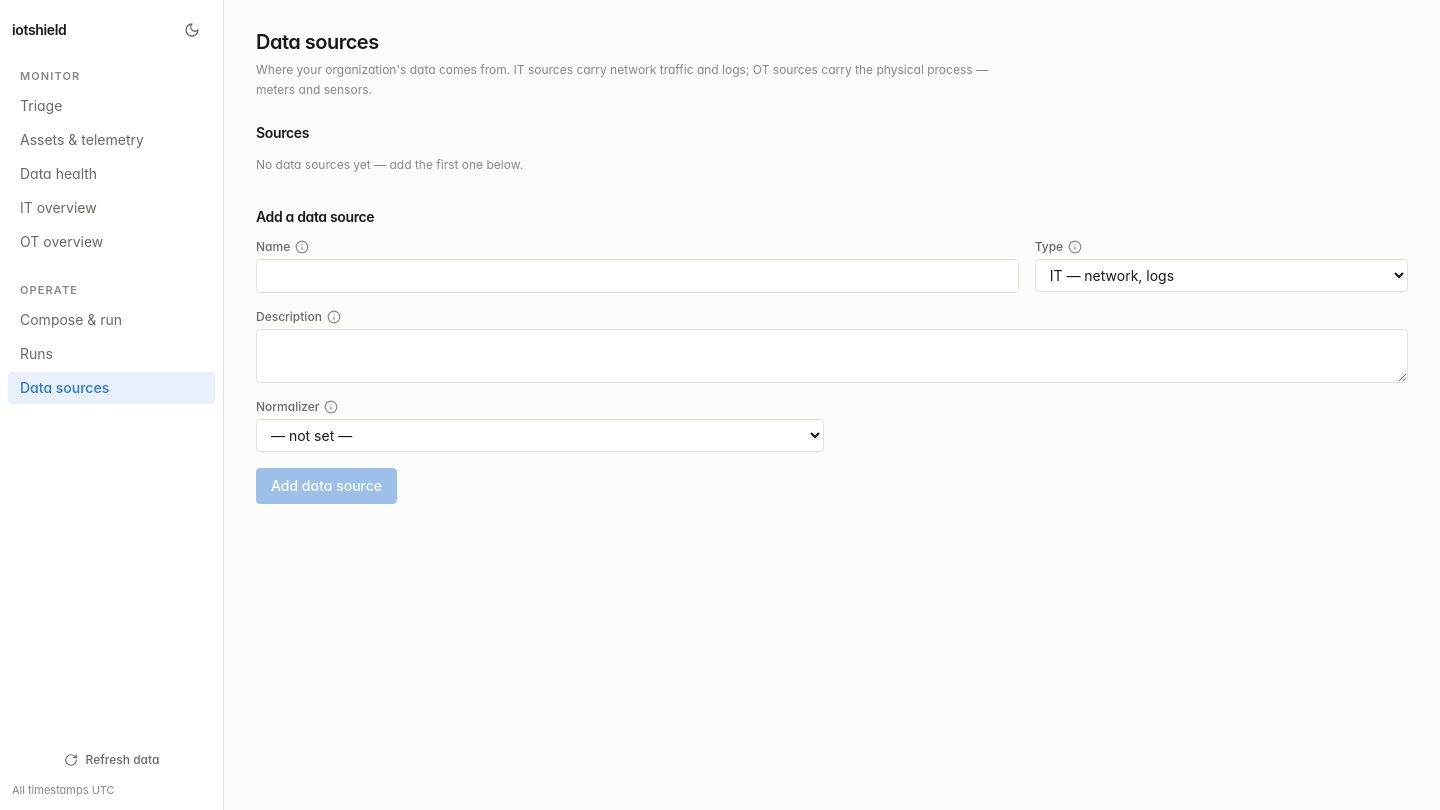
Scenario: Data sources page › adds an OT source with a reader, and lists it
The image size is (1440, 810).
Type "  Water meters " into the field with test id "ds_name". click: (637, 276)
box: x1=256 y1=258 x2=1019 y2=292
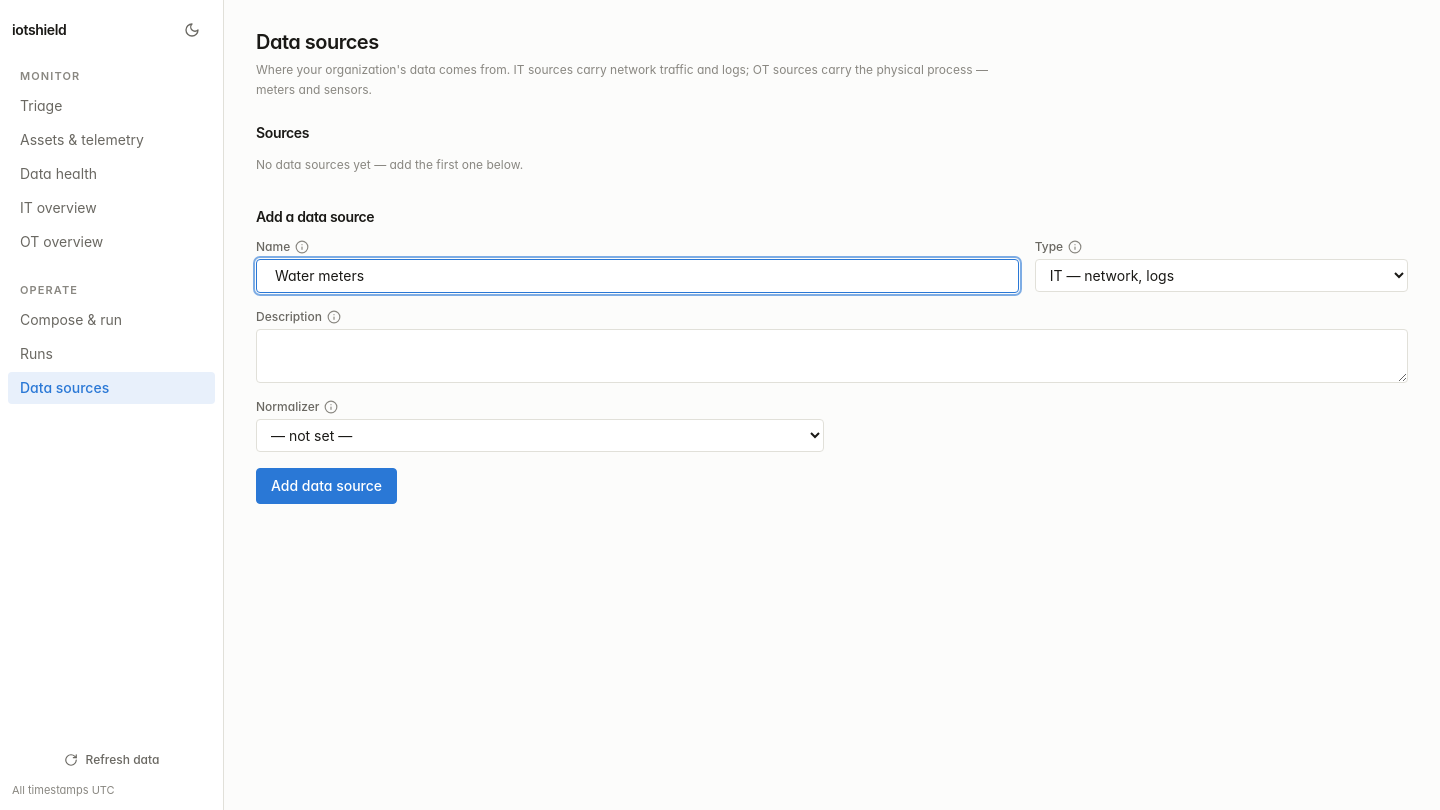
Select "OT — meters, sensors" in the dropdown with test id "ds_type". click: (1221, 275)
box: x1=1035 y1=258 x2=1408 y2=292
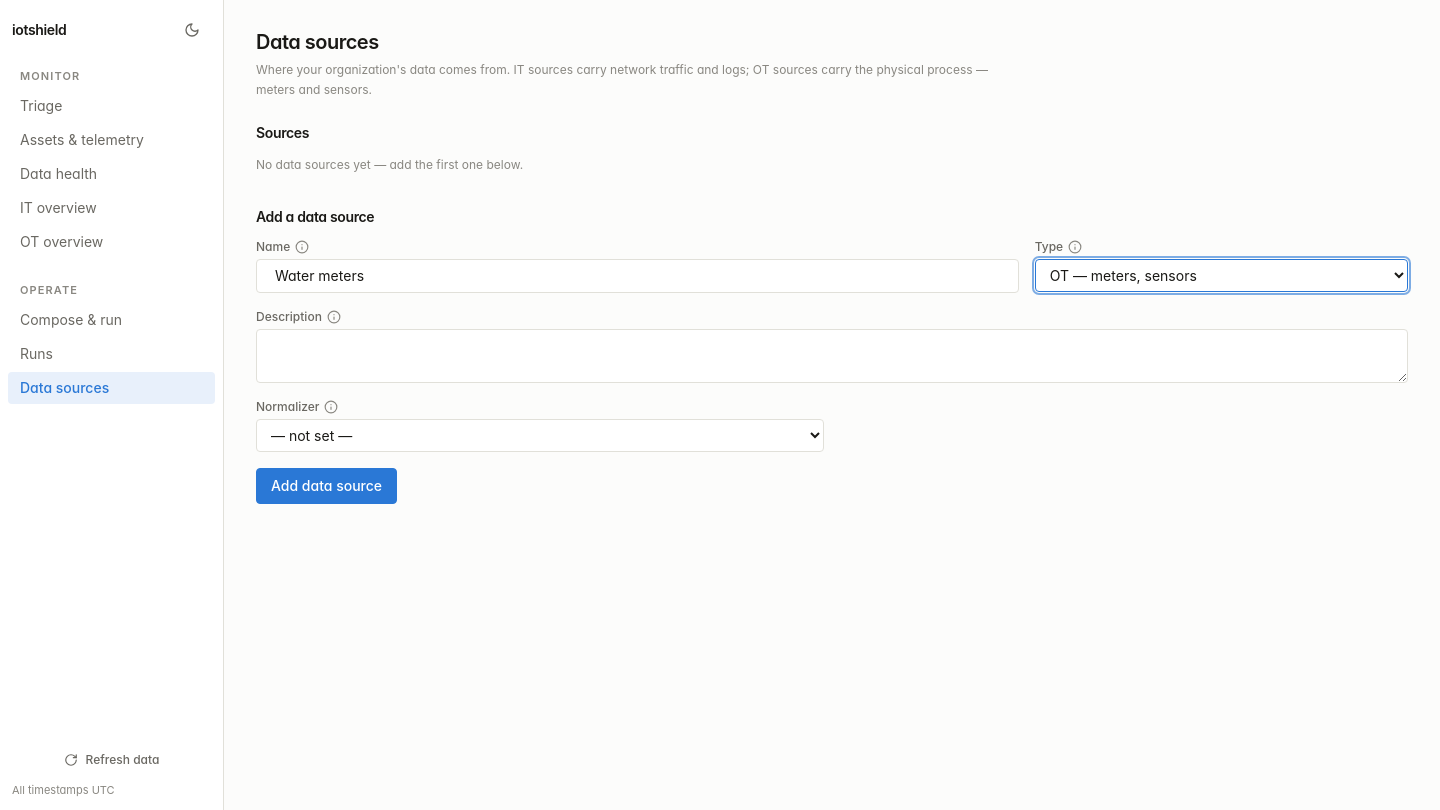
Type "Hourly export" into the text box with test id "ds_description". click: (832, 356)
box: x1=256 y1=328 x2=1408 y2=382
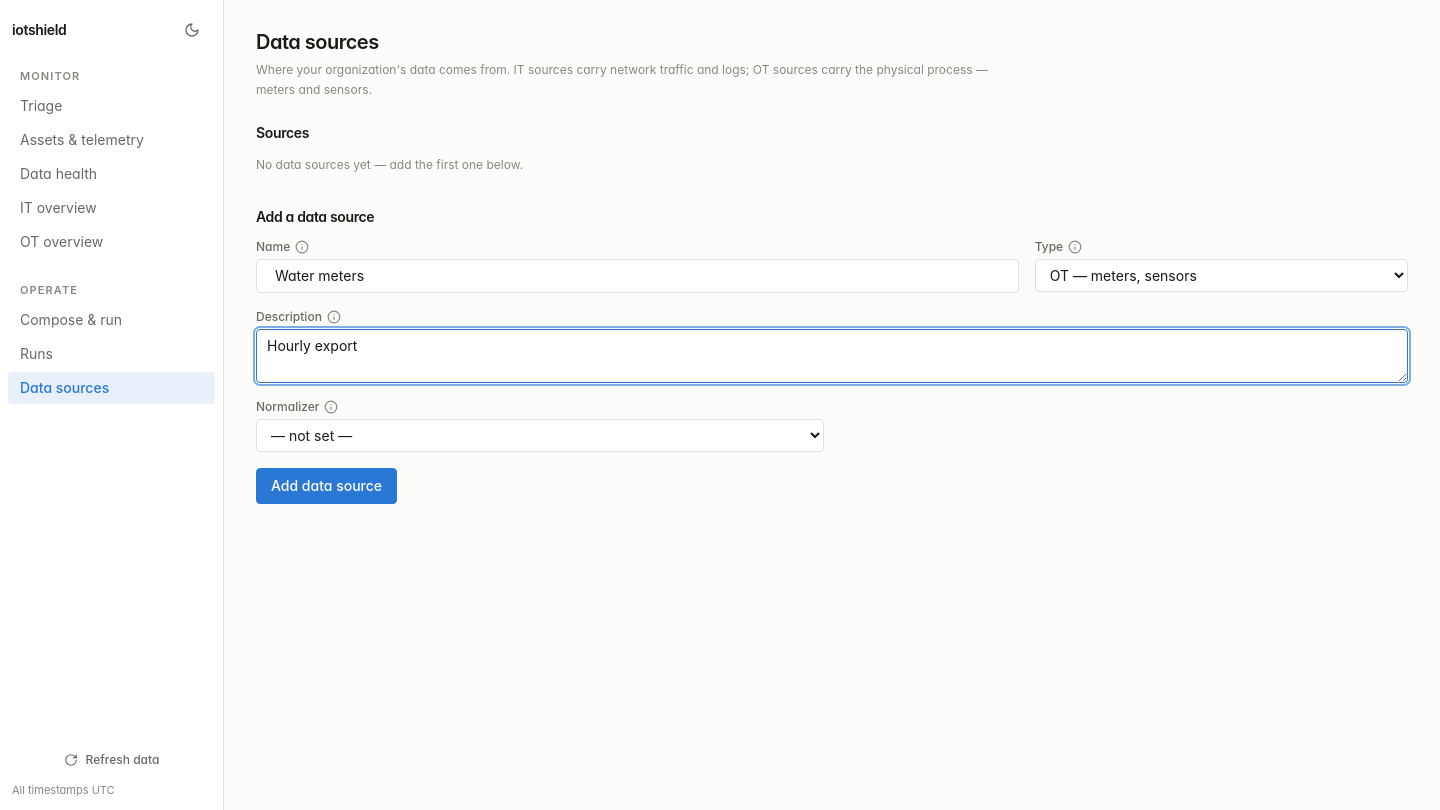
Select "flow" in the dropdown with test id "ds_normalizer". click: (540, 435)
box: x1=256 y1=418 x2=824 y2=452
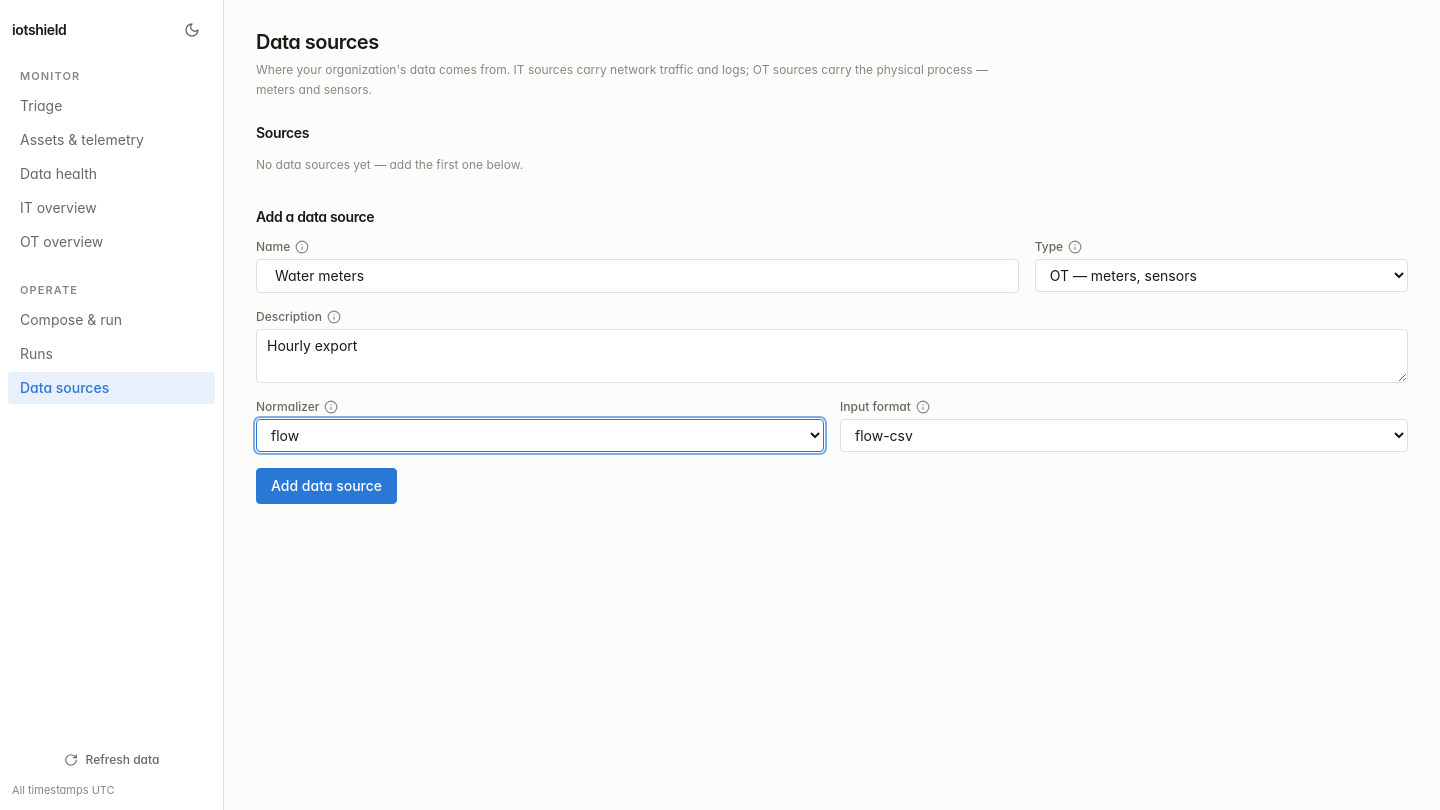
Select "zeek-conn" in the dropdown with test id "ds_format". click: (1124, 435)
box: x1=840 y1=418 x2=1408 y2=452
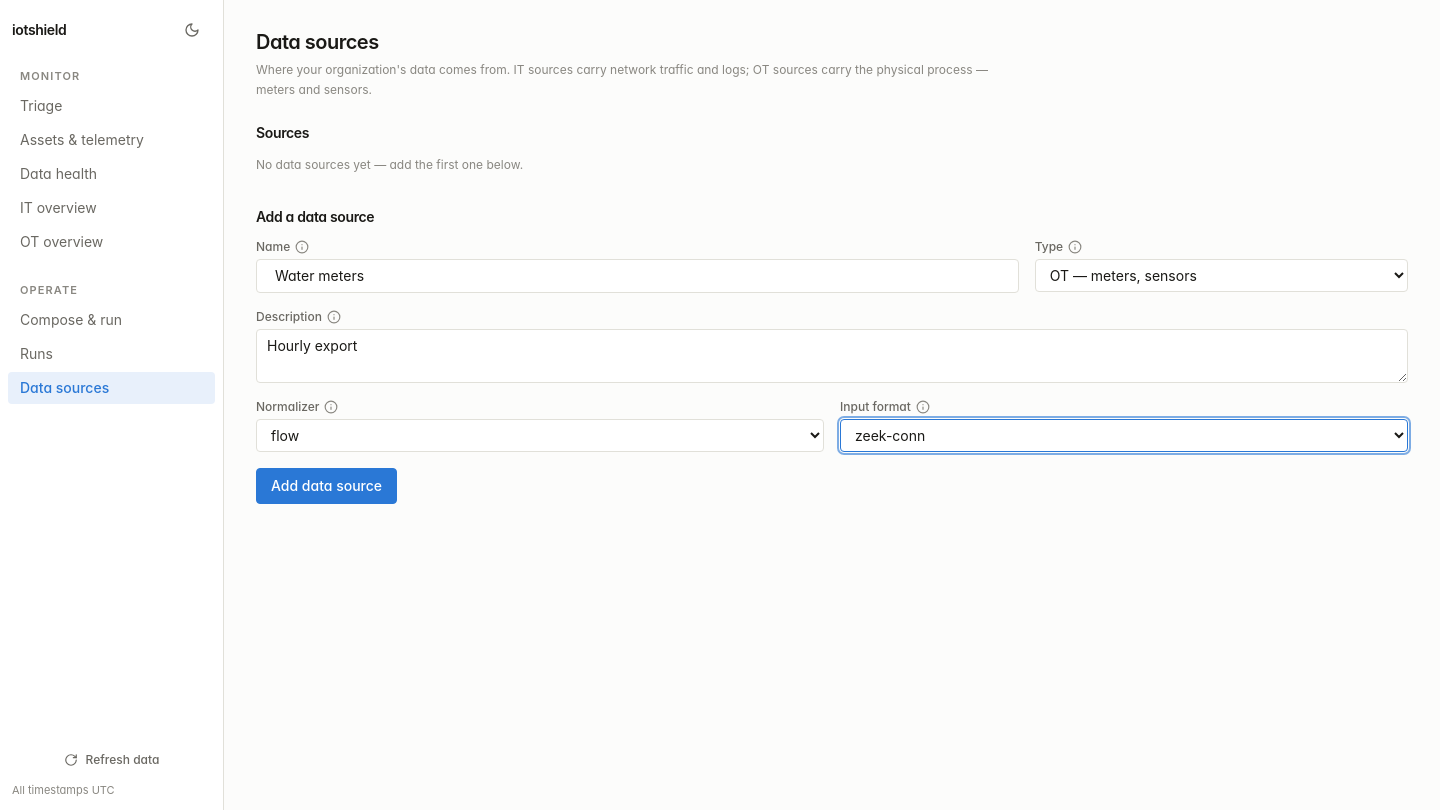
Click the button with test id "ds_save". click: (327, 486)
box: x1=256 y1=468 x2=397 y2=504
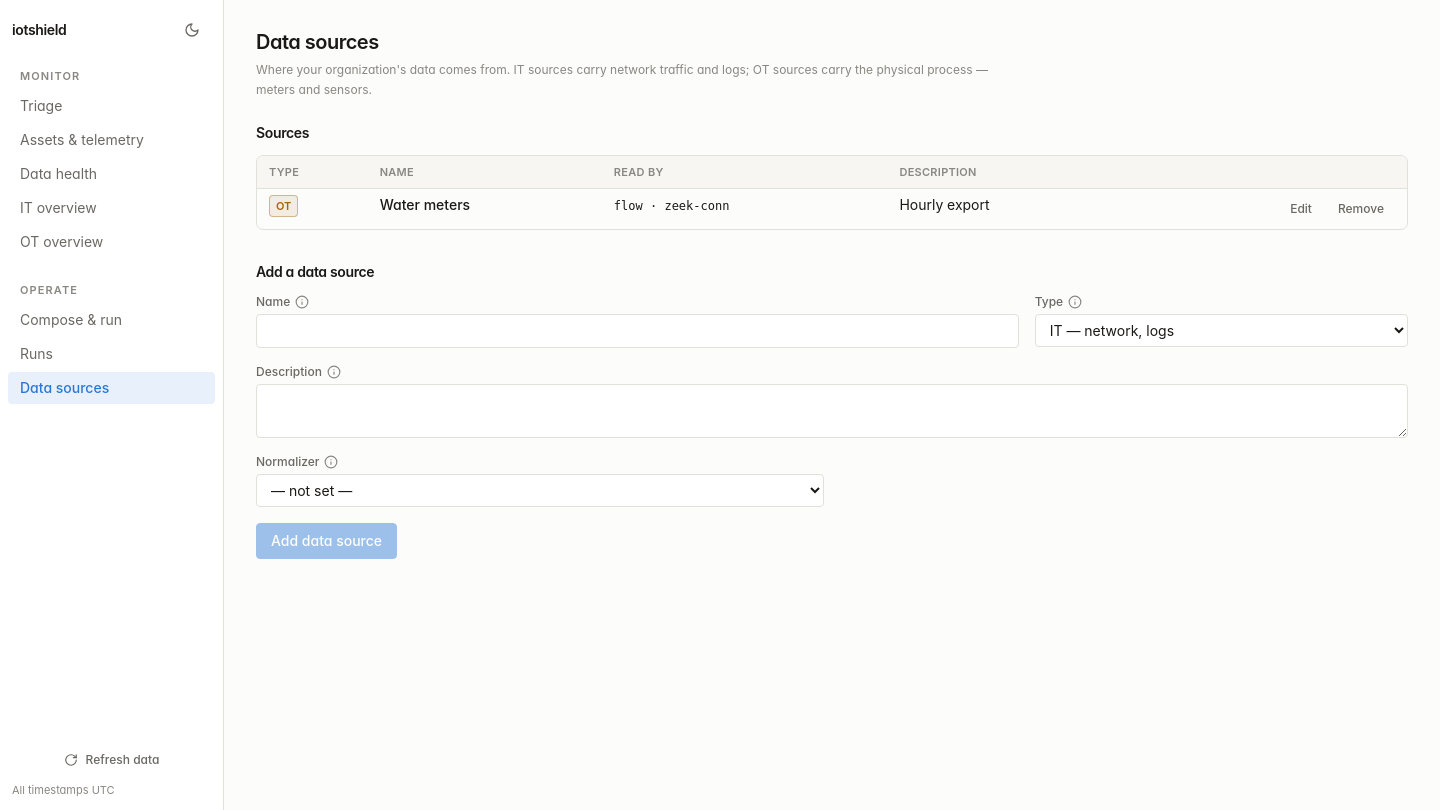
Expected: the text "Water meters" is shown, x1=380 y1=196 x2=470 y2=213
Expected: the field with test id "ds_name" is empty, x1=256 y1=314 x2=1019 y2=348
